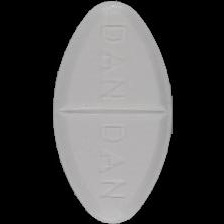68151-2010: (0, 0, 224, 224)
